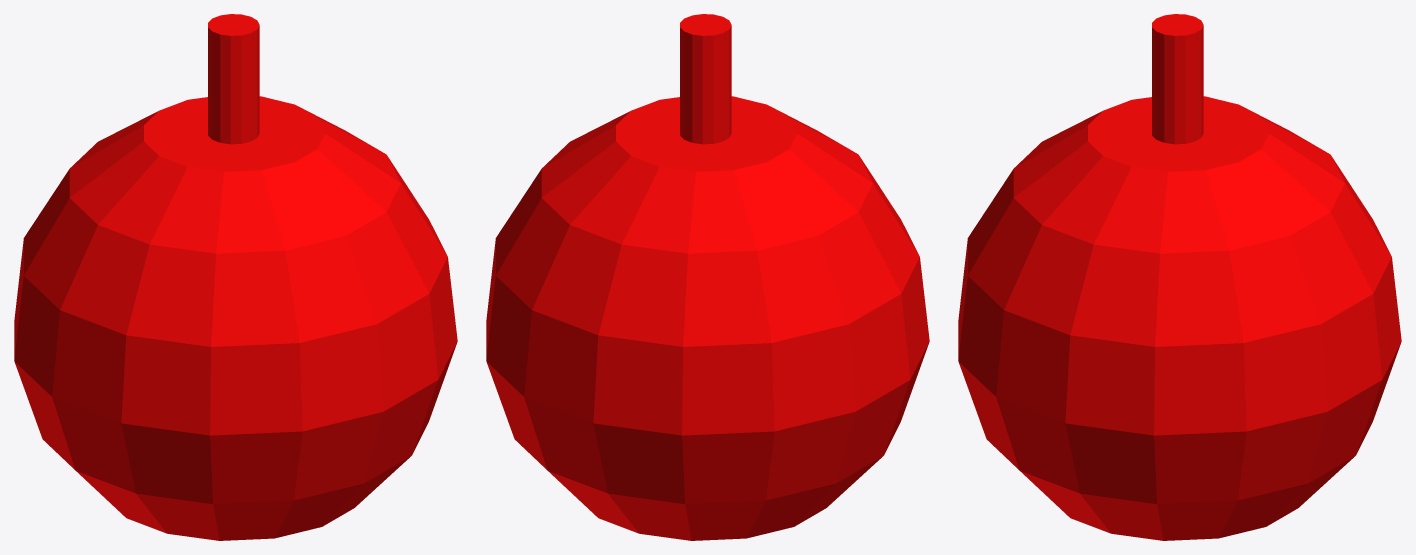
The model's file is Buoy1.FBX.
The picture shows the model from 3 angles, left to right: view 1: azimuth 30°, elevation 25°; view 2: azimuth 150°, elevation 25°; view 3: azimuth 270°, elevation 25°; orthographic projection.
Parts seen in each view (by area): view 1: Sphere001; view 2: Sphere001; view 3: Sphere001.
Part boxes in pixels (bbox=[...]): Sphere001: bbox=[14, 14, 457, 540]; Sphere001: bbox=[486, 14, 929, 540]; Sphere001: bbox=[958, 14, 1401, 540].
Bounding box in the file's own units: 66.63 × 82.32 × 66.27.
Materials: 1 (1 with a texture image).
